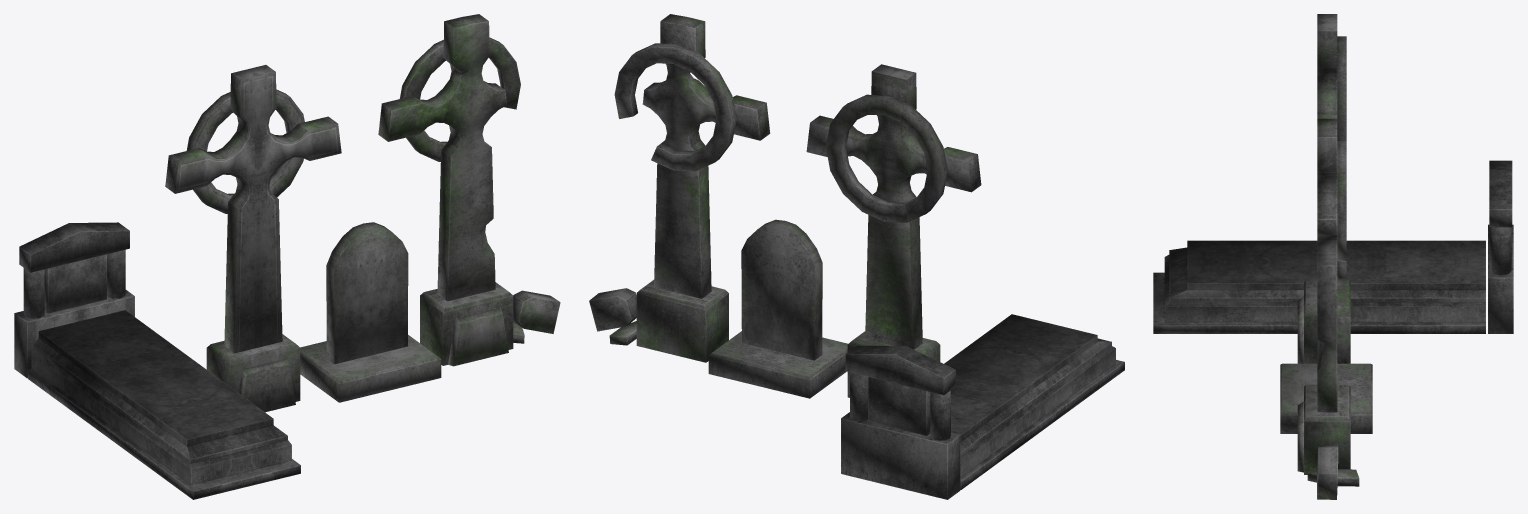
The model's file is Gravestones.fbx.
The picture shows the model from 3 angles, left to right: view 1: azimuth 30°, elevation 25°; view 2: azimuth 150°, elevation 25°; view 3: azimuth 270°, elevation 25°; orthographic projection.
Visible parts, largest first — view 1: Cube.002, Cube.001, Cube; view 2: Cube.002, Cube.001, Cube; view 3: Cube.001, Cube, Cube.002.
Part boxes in pixels (x1,y1,x2,y2): Cube.002: [165, 65, 441, 412]; Cube.001: [14, 222, 300, 499]; Cube: [378, 14, 560, 366]; Cube.002: [708, 64, 981, 398]; Cube.001: [841, 314, 1124, 499]; Cube: [589, 14, 770, 362]; Cube.001: [1153, 160, 1513, 333]; Cube: [1297, 118, 1359, 499]; Cube.002: [1280, 14, 1372, 433].
Bounding box in the file's own units: 286 × 201 × 197.
